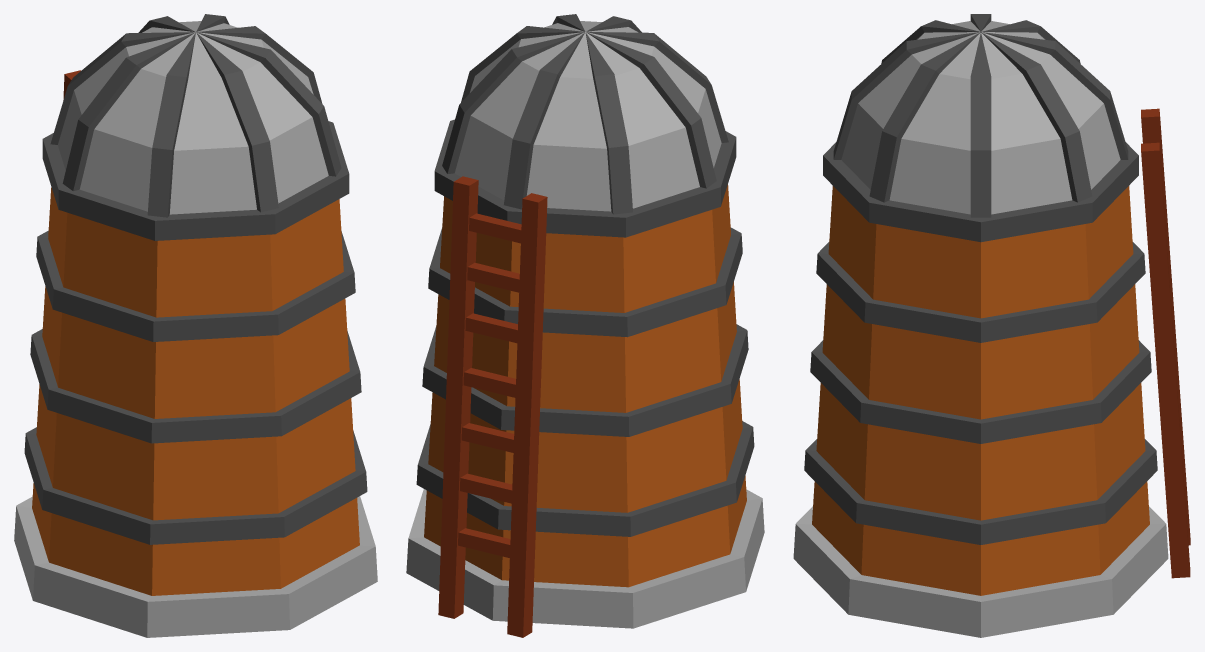
The model's file is Silo.fbx.
3 renders of one model, left to right at view 1: azimuth 30°, elevation 25°; view 2: azimuth 150°, elevation 25°; view 3: azimuth 270°, elevation 25°, orthographic.
Parts seen in each view (by area): view 1: Silo; view 2: Silo; view 3: Silo.
Part boxes in pixels (x1,y1,x2,y2): Silo: (14, 14, 377, 637); Silo: (406, 14, 764, 637); Silo: (793, 14, 1190, 637).
Bounding box in the file's own units: 142 × 221 × 151.
